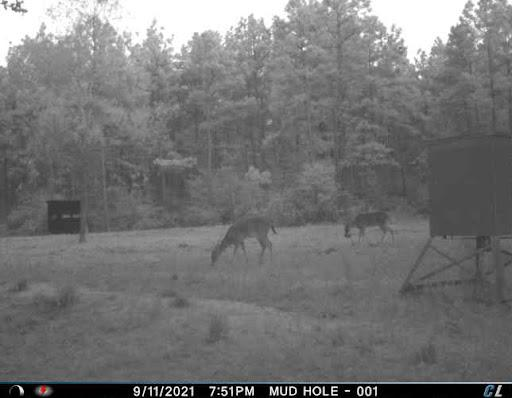Deer: (204, 212, 285, 272), (343, 205, 394, 247)
